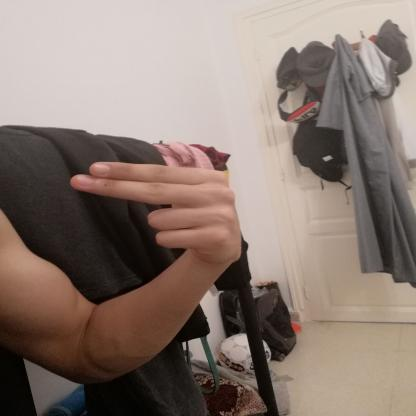AYN: (56, 154, 254, 276)
